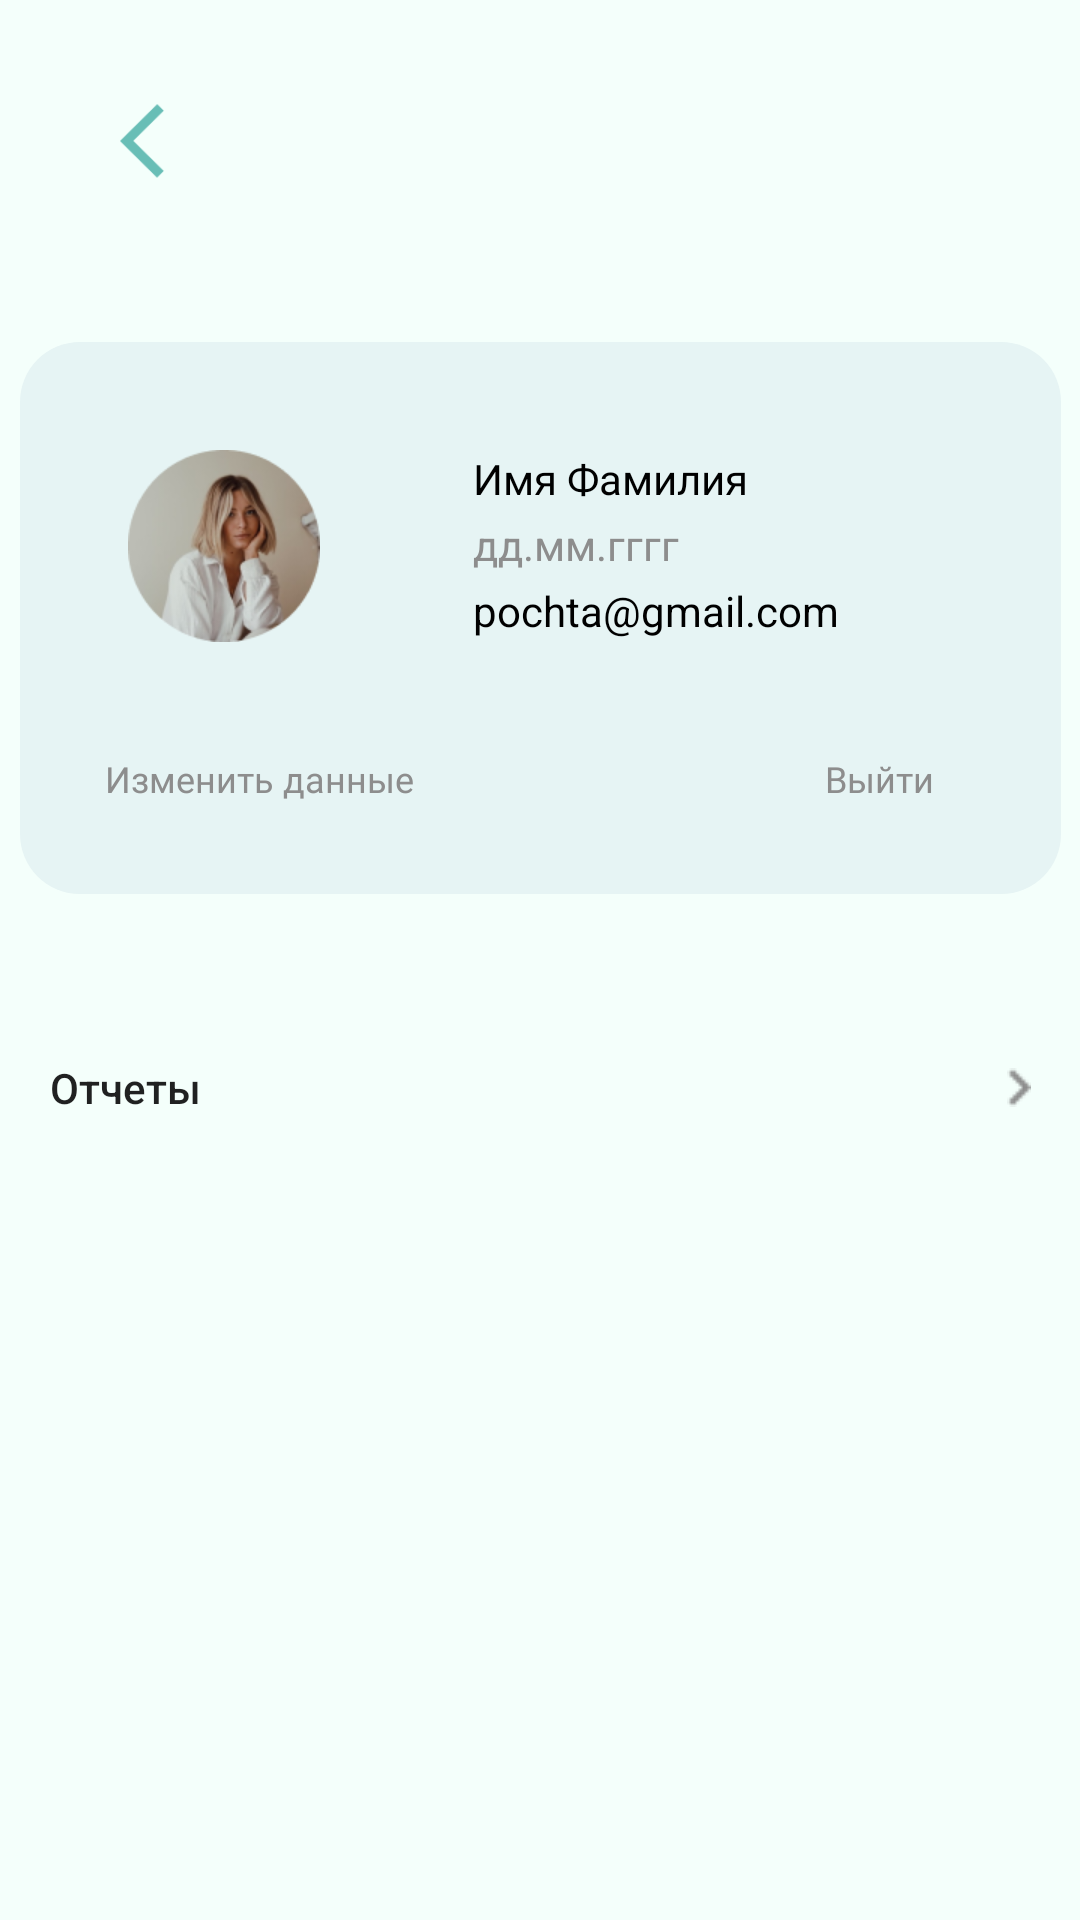

Icons on this 1080*1920 Android screen, each with the point to tap as [x,y]:
back arrow: [142,141]
